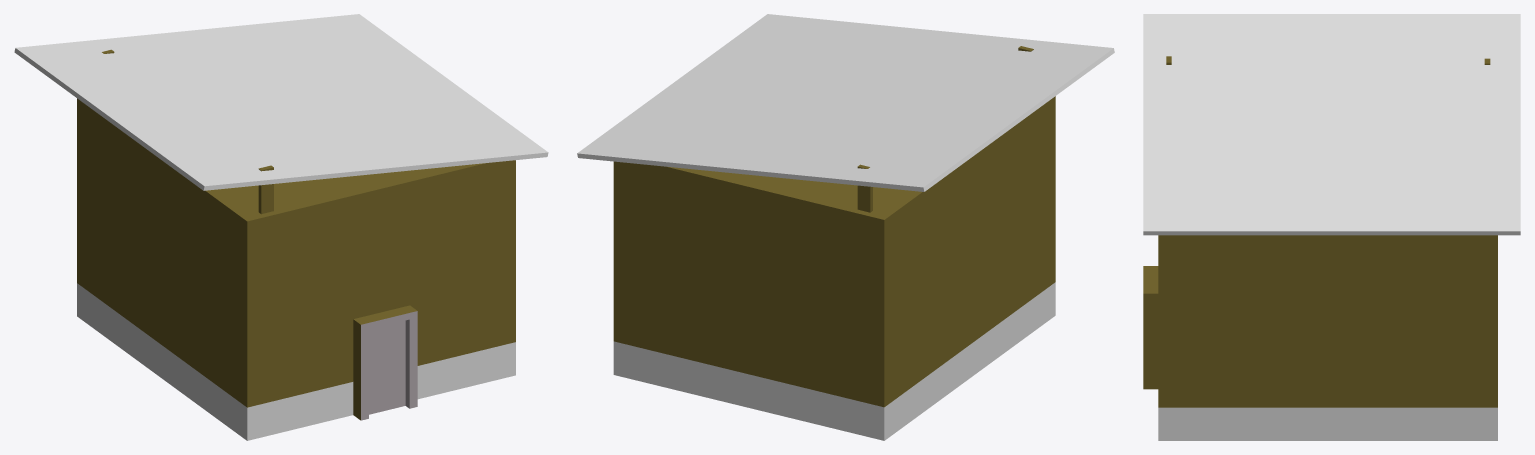
File: House3.fbx
3 renders of one model, left to right at view 1: azimuth 30°, elevation 25°; view 2: azimuth 150°, elevation 25°; view 3: azimuth 270°, elevation 25°, orthographic.
Parts seen in each view (by area): view 1: Body.003, Roof.003; view 2: Body.003, Roof.003; view 3: Roof.003, Body.003.
Part boxes in pixels (<box>): Body.003: <box>77,49,515,440</box>; Roof.003: <box>14,14,548,190</box>; Body.003: <box>613,46,1055,440</box>; Roof.003: <box>577,14,1114,191</box>; Roof.003: <box>1143,14,1520,235</box>; Body.003: <box>1143,56,1497,440</box>.
Size of the model in its own units: 226 by 171 by 215.
